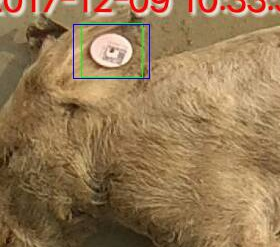text: (81, 23, 142, 77)
